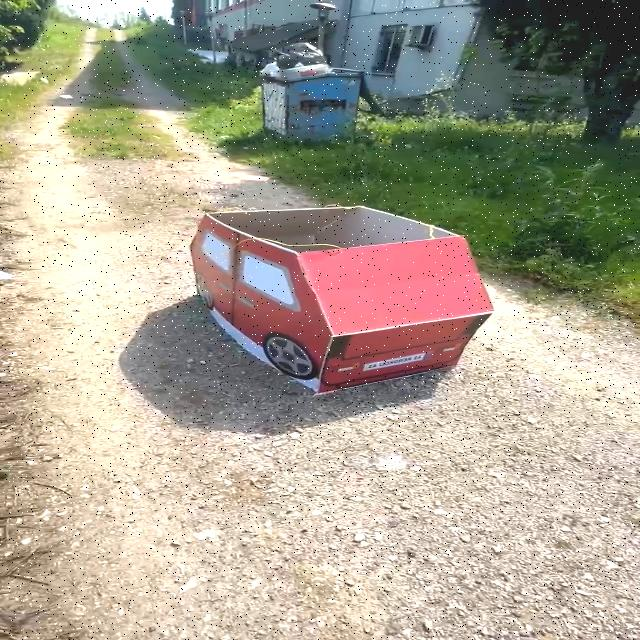red_car: (157, 187, 516, 398)
